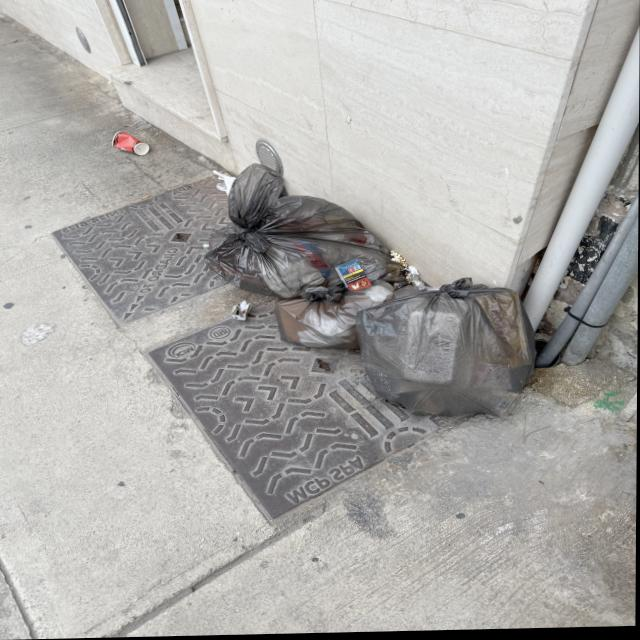Mixed Waste -Black Bags-: (204, 164, 537, 419)
Others Waste: (335, 260, 373, 292), (111, 130, 151, 155), (391, 252, 417, 285), (232, 304, 252, 322)
